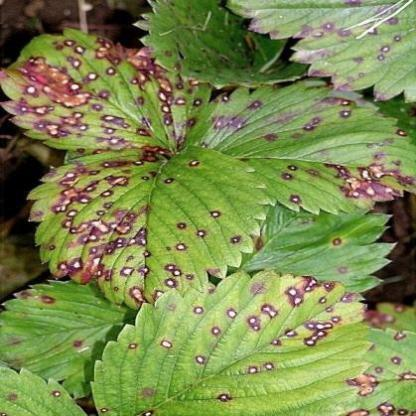Strawberry_Leaf_Spot: (90, 268, 374, 415), (26, 145, 272, 309), (182, 79, 415, 216), (0, 26, 178, 164), (224, 0, 415, 104), (0, 278, 141, 400), (130, 0, 312, 88), (239, 204, 399, 302), (128, 50, 214, 152), (340, 302, 416, 416), (0, 366, 88, 416)
